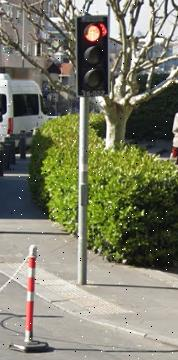redlight: (78, 16, 109, 93)
